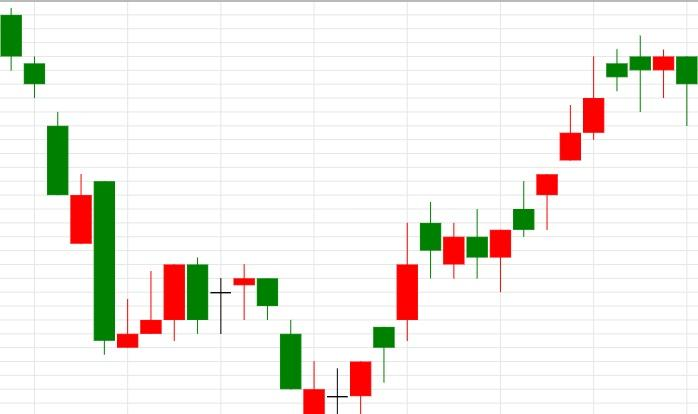shooting_star_fall: (490, 55, 604, 293)
three_white_soldiers_rise: (1, 8, 185, 355)
